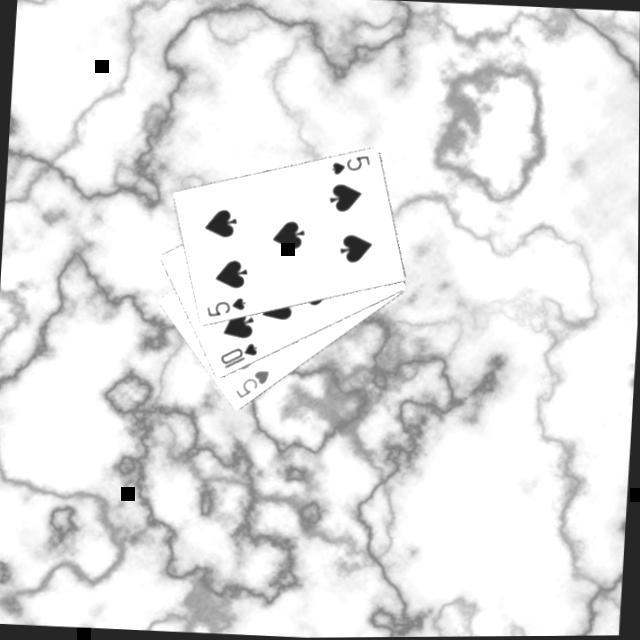10S: (218, 337, 262, 373)
5H: (233, 365, 274, 402)
5S: (204, 292, 249, 321), (328, 150, 373, 179)
